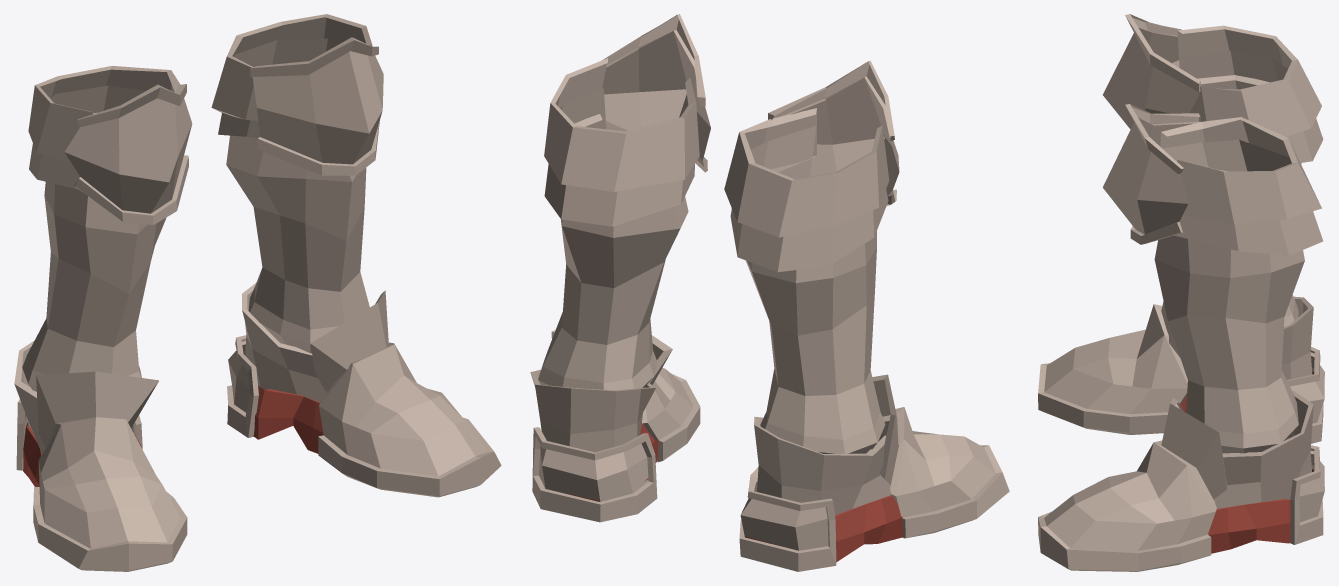
Rendered from armorBoots.fbx.
The picture shows the model from 3 angles, left to right: view 1: azimuth 30°, elevation 25°; view 2: azimuth 150°, elevation 25°; view 3: azimuth 270°, elevation 25°; orthographic projection. The views are drawn at different scales.
Visible parts, largest first — view 1: Cube.028; view 2: Cube.028; view 3: Cube.028.
Part boxes in pixels (x1,y1,x2,y2): Cube.028: (14, 14, 501, 571); Cube.028: (530, 14, 1009, 571); Cube.028: (1038, 14, 1324, 571).
Bounding box in the file's own units: 2.21 × 2.15 × 1.34.
